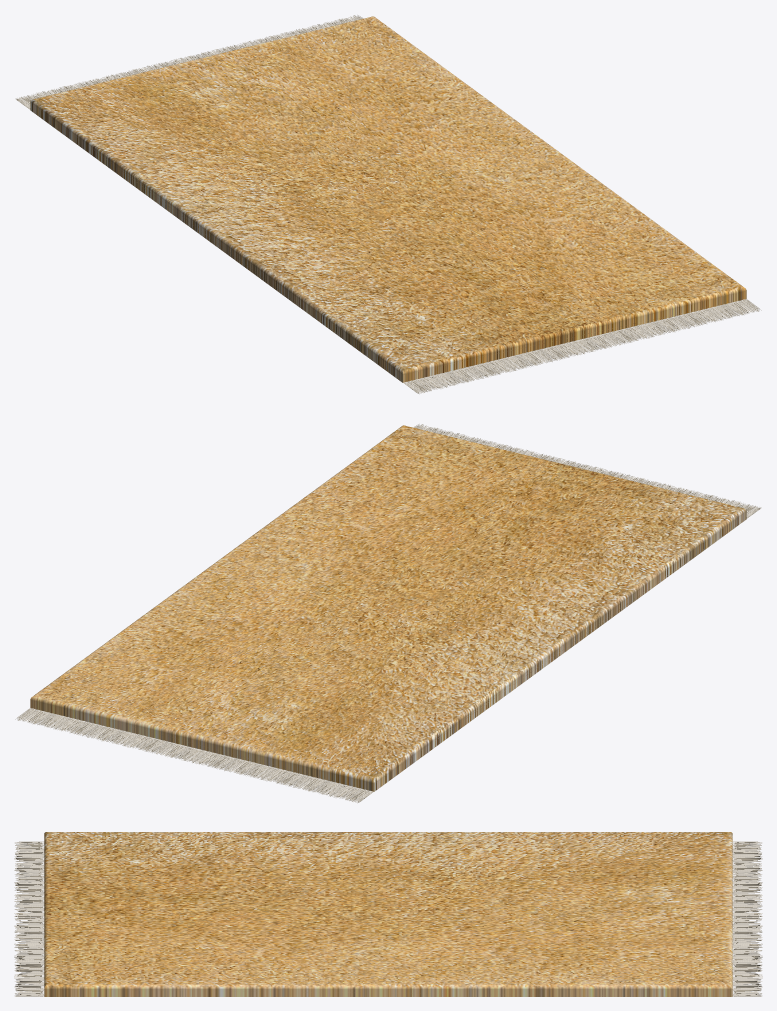
3 views of the same model, one above another, from view 1: azimuth 30°, elevation 25°; view 2: azimuth 150°, elevation 25°; view 3: azimuth 270°, elevation 25° (orthographic). The views are drawn at different scales.
Visible parts, largest first — view 1: k01; view 2: k01; view 3: k01.
Part boxes in pixels (left/top/right/bottom): k01: left=15, top=15, right=761, bottom=393; k01: left=15, top=424, right=761, bottom=802; k01: left=14, top=832, right=762, bottom=996.
Bounding box in the file's own units: 0.8 × 0.0265 × 1.63.
Materials: 3 (2 with a texture image).
